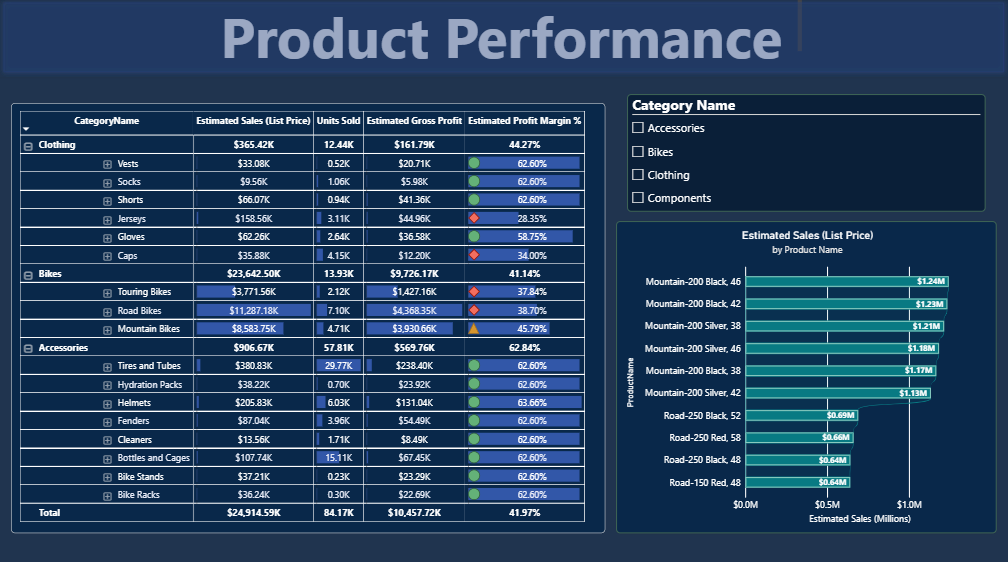

The page's visual inventory and layout, read from the dashboard file:
{"tool":"powerbi","page":{"name":"Page 2","canvas":[1920,1080],"ordinal":1},"visuals":[{"type":"pivotTable","fields":{"Rows":["DimProduct.CategoryName","DimProduct.SubcategoryName","DimProduct.ProductName"],"Values":["FactSales.Estimated Sales (List Price)","FactSales.Units Sold","FactSales.Estimated Gross Profit","FactSales.Estimated Profit Margin %"]},"box":[22,200,1130,818],"z":0},{"type":"barChart","title":"Estimated Sales (List Price)","fields":{"Category":["DimProduct.ProductName"],"Y":["FactSales.Estimated Sales (List Price)"]},"box":[1174,424,724,594],"z":1000},{"type":"slicer","fields":{"Values":["DimProduct.CategoryName"]},"box":[1194,182,682,224],"z":2000},{"type":"textbox","box":[392.5,0,1135,120],"z":3000},{"type":"shape","box":[0,0,1920,150],"z":4000}]}

Visuals, with their boxes in screenshot pixels (x1, y1, x2, y2), scaled from the page's 1920x1080 canvas onto the 1008x562 screenshot:
pivotTable - DimProduct.CategoryName x DimProduct.SubcategoryName: x1=12 y1=104 x2=605 y2=530
"Estimated Sales (List Price)" barChart: x1=616 y1=221 x2=996 y2=530
slicer - DimProduct.CategoryName: x1=627 y1=95 x2=985 y2=211
textbox: x1=206 y1=0 x2=802 y2=62
shape: x1=0 y1=0 x2=1007 y2=78
